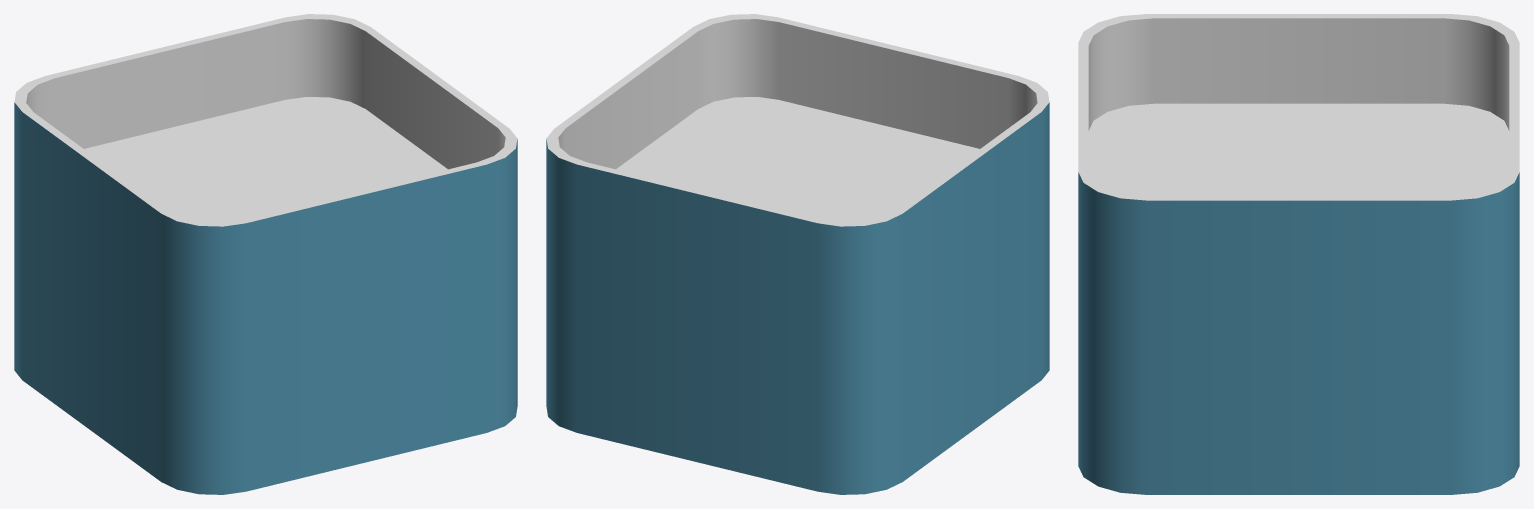
File: Tray.fbx
3 views of the same model, side by side, from view 1: azimuth 30°, elevation 25°; view 2: azimuth 150°, elevation 25°; view 3: azimuth 270°, elevation 25° (orthographic). The views are drawn at different scales.
Parts seen in each view (by area): view 1: Tray; view 2: Tray; view 3: Tray.
Part boxes in pixels (box(x1,y1,x2,y2)): Tray: box(14, 14, 517, 494); Tray: box(546, 14, 1049, 494); Tray: box(1078, 14, 1519, 494).
Size of the model in its own units: 279 by 205 by 279.
